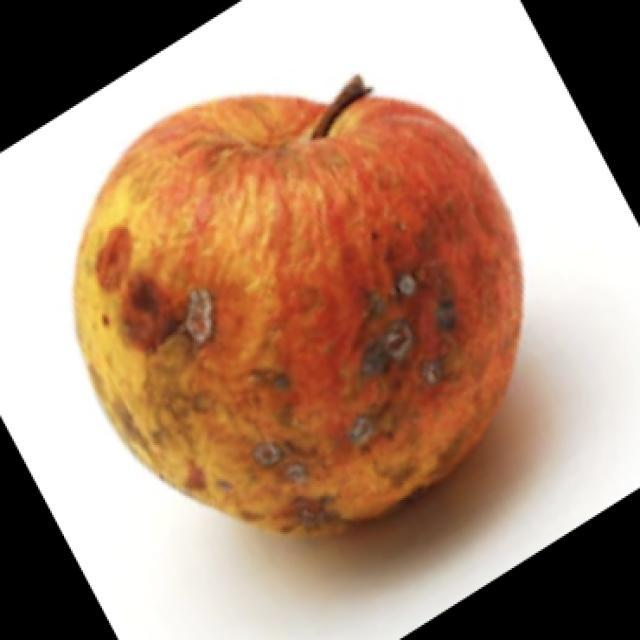Rotten: (71, 83, 516, 540)
